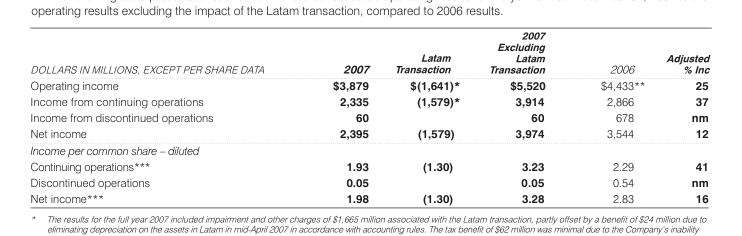table: (28, 28, 710, 204)
table column: (28, 28, 298, 204), (473, 28, 573, 204), (382, 28, 473, 204), (298, 28, 382, 204), (573, 28, 638, 204), (654, 28, 710, 204), (638, 28, 654, 204)
table column header: (28, 28, 710, 92)
table projected row header: (28, 142, 710, 157)
table row: (28, 28, 710, 92), (28, 108, 710, 125), (28, 125, 710, 142), (28, 92, 710, 108), (28, 157, 710, 173), (28, 173, 710, 189), (28, 142, 710, 157), (28, 189, 710, 204)
